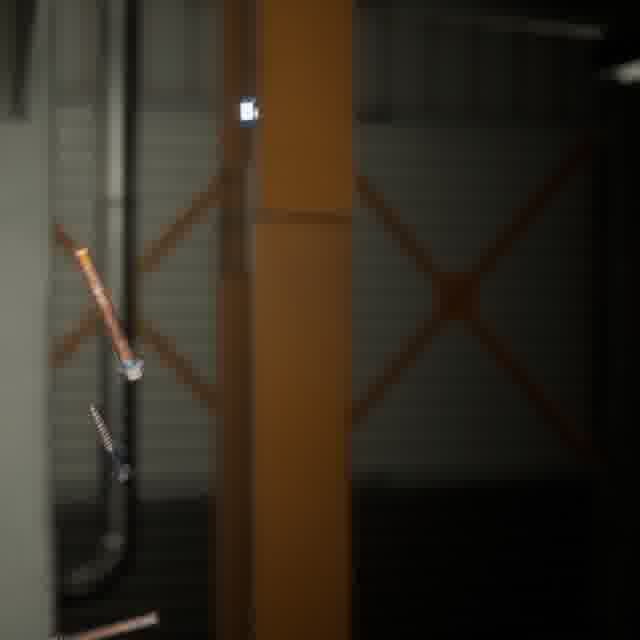bolt: (68, 239, 150, 385), (83, 398, 137, 487), (45, 607, 164, 640)
nut: (235, 92, 263, 132)
